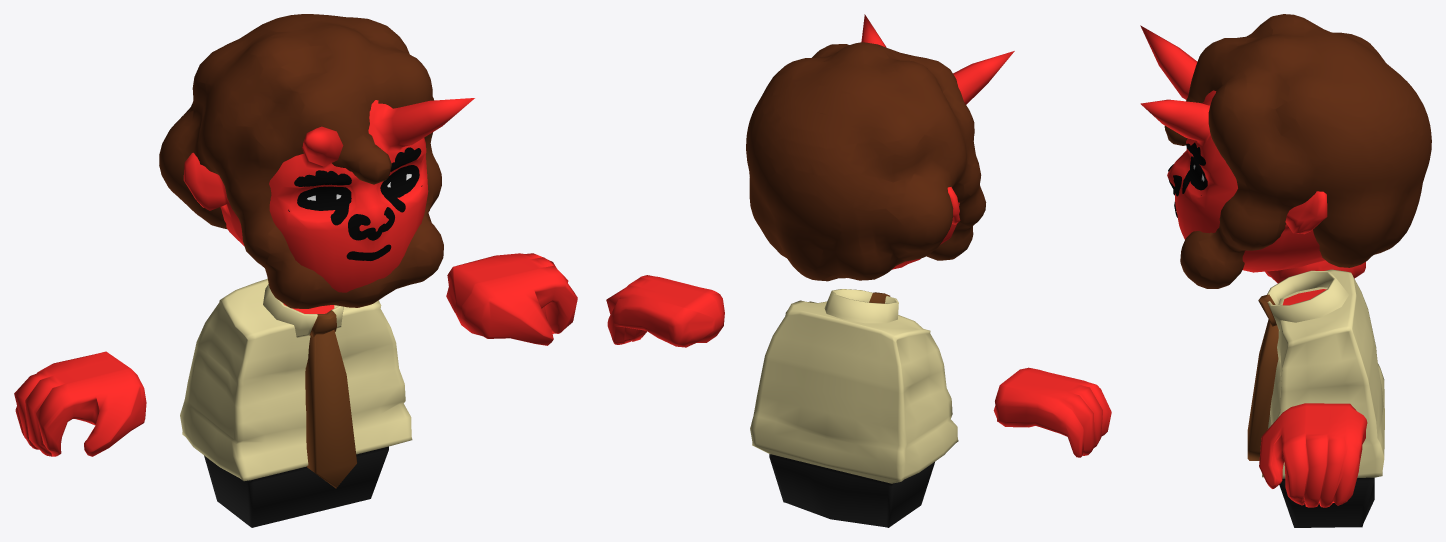
The model's file is devin.fbx.
3 views of the same model, side by side, from view 1: azimuth 30°, elevation 25°; view 2: azimuth 150°, elevation 25°; view 3: azimuth 270°, elevation 25° (orthographic). The views are drawn at different scales.
Visible parts, largest first — view 1: hair.001, body.001, DevinHead.002, hands.002, hands.001, collar.001, face.001; view 2: hair.001, body.001, hands.002, hands.001, DevinHead.002, collar.001; view 3: hair.001, body.001, DevinHead.002, hands.001, collar.001, face.001, hands.002.
Boxes of the visible parts, x1=… form: hair.001: x1=159, y1=14, x2=443, y2=308; body.001: x1=180, y1=279, x2=412, y2=527; DevinHead.002: x1=183, y1=98, x2=474, y2=292; hands.002: x1=14, y1=351, x2=146, y2=456; hands.001: x1=446, y1=253, x2=577, y2=345; collar.001: x1=263, y1=284, x2=357, y2=488; face.001: x1=288, y1=147, x2=422, y2=260; hair.001: x1=746, y1=42, x2=986, y2=281; body.001: x1=750, y1=300, x2=958, y2=527; hands.002: x1=993, y1=367, x2=1111, y2=457; hands.001: x1=606, y1=275, x2=724, y2=347; DevinHead.002: x1=861, y1=14, x2=1014, y2=269; collar.001: x1=824, y1=289, x2=898, y2=323; hair.001: x1=1164, y1=14, x2=1431, y2=288; body.001: x1=1262, y1=269, x2=1384, y2=527; DevinHead.002: x1=1140, y1=25, x2=1327, y2=272; hands.001: x1=1259, y1=403, x2=1367, y2=507; collar.001: x1=1247, y1=270, x2=1348, y2=460; face.001: x1=1168, y1=142, x2=1207, y2=217; hands.002: x1=1265, y1=260, x2=1365, y2=283.
Bounding box in the file's own units: 215 × 186 × 105.
